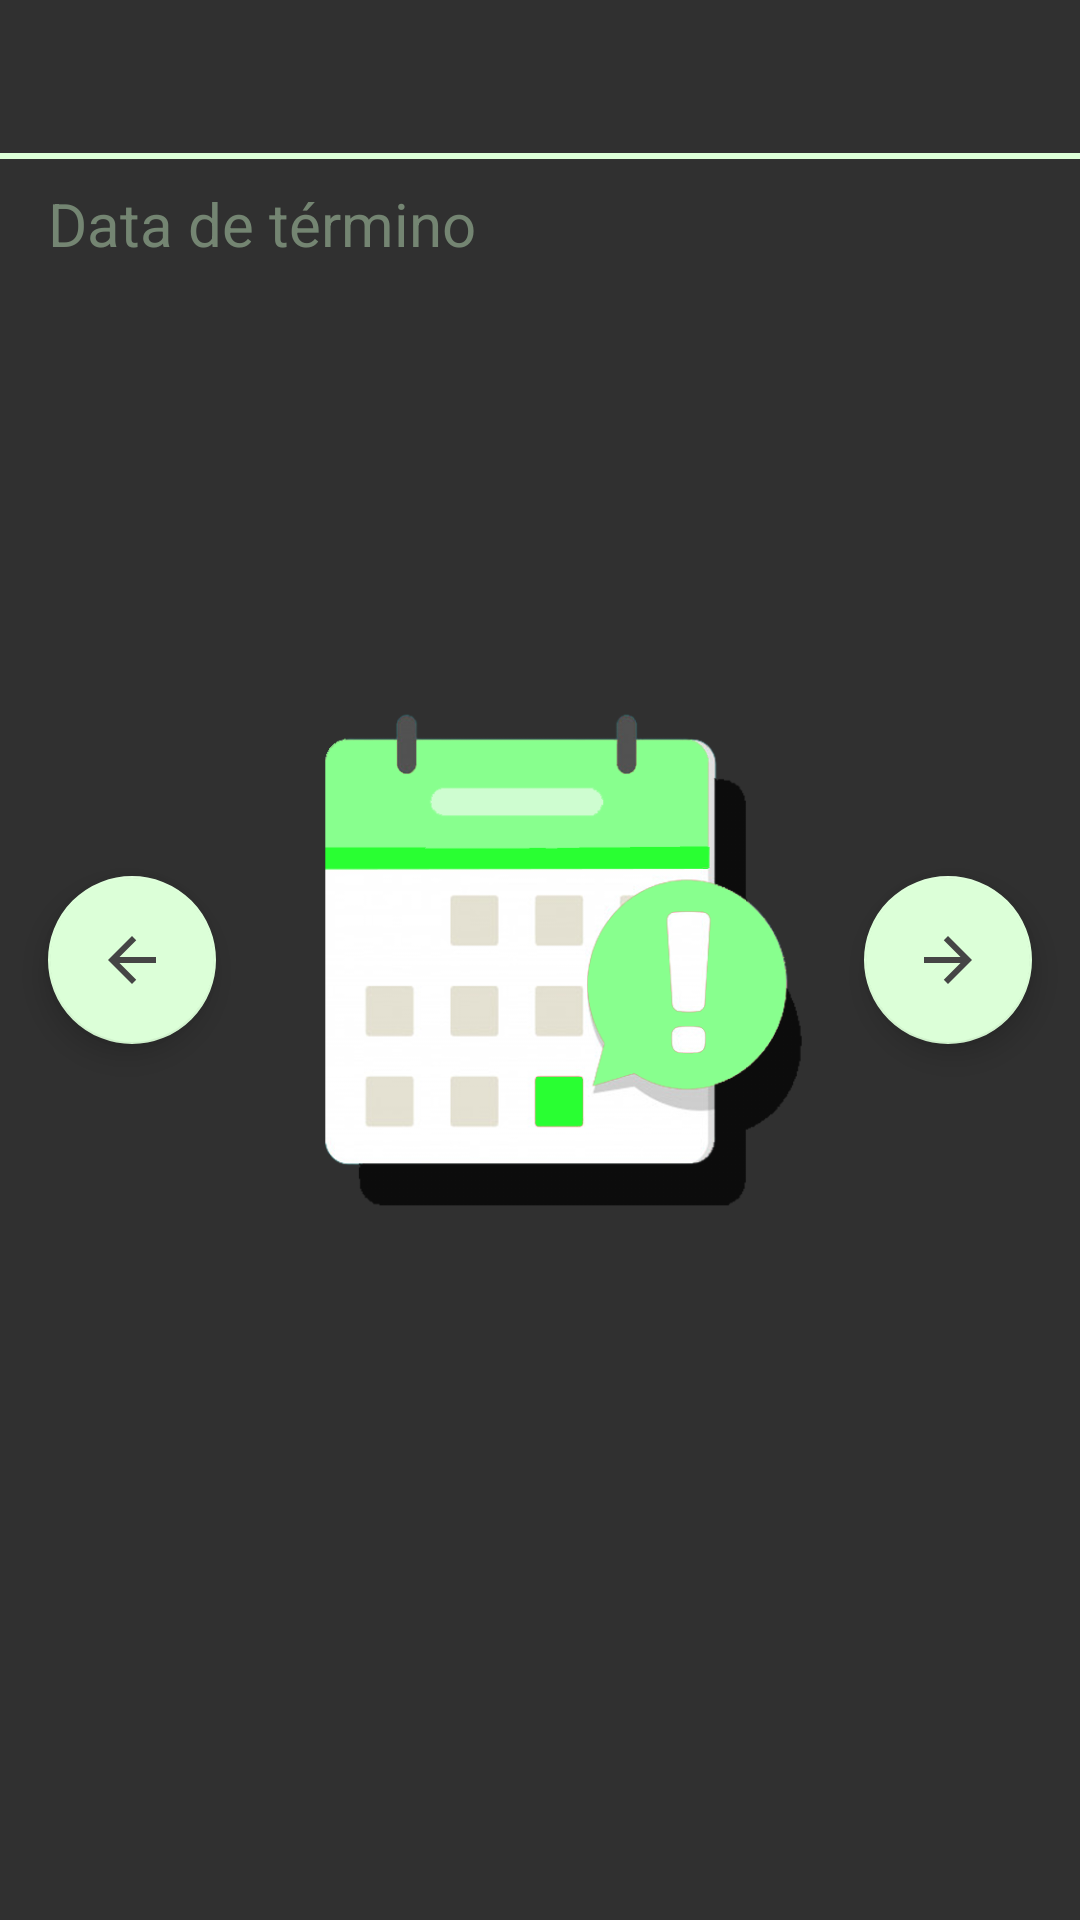

Named icons in this screenshot (1080w x 1920h) and their bounding boxes, bbox=[x1, y1, x2, y2]:
arrow proximo: bbox=[864, 876, 1032, 1044]
arrow voltar: bbox=[48, 876, 216, 1044]
